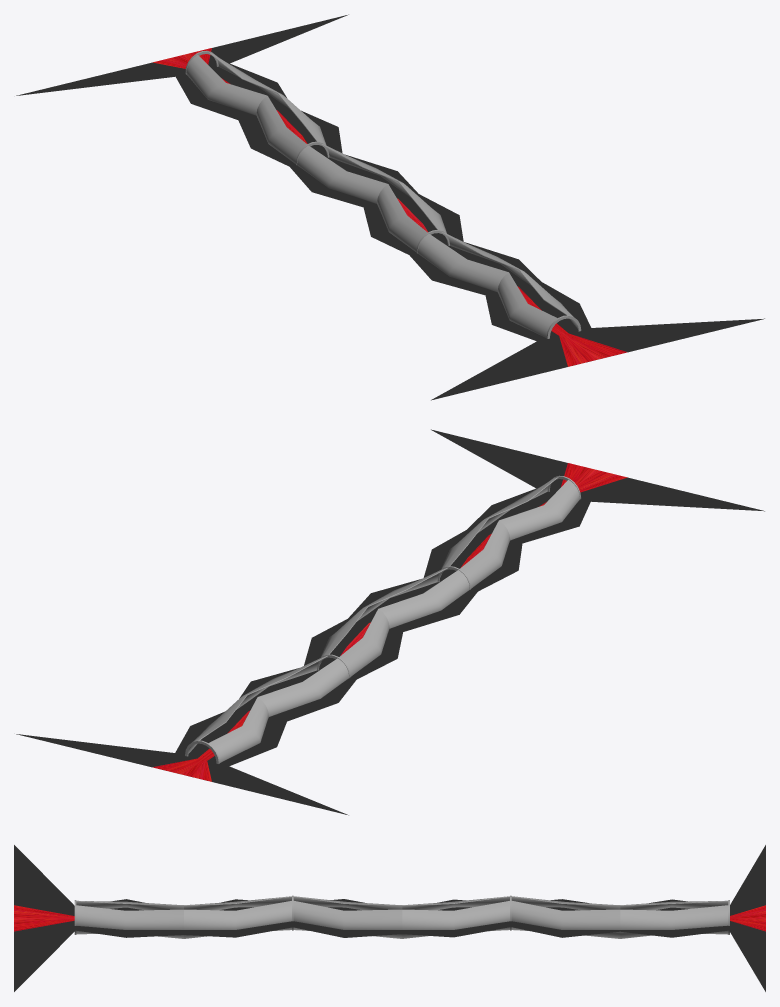
Rendered from InfiniteHallwayTesting.fbx.
3 views of the same model, one above another, from view 1: azimuth 30°, elevation 25°; view 2: azimuth 150°, elevation 25°; view 3: azimuth 270°, elevation 25° (orthographic). The views are drawn at different scales.
Parts seen in each view (by area): view 1: pPlane2, polySurface31, polySurface27, polySurface35, pPlane1, polySurface25, polySurface33, polySurface29; view 2: pPlane2, polySurface33, polySurface29, polySurface25, pPlane1, polySurface35, polySurface27, polySurface31; view 3: pPlane2, polySurface33, polySurface35, polySurface29, polySurface31, polySurface25, polySurface27, pPlane1.
Boxes of the visible parts, left/top/right/bottom form: pPlane2: left=16, top=14, right=764, bottom=400; polySurface31: left=297, top=143, right=408, bottom=203; polySurface27: left=417, top=231, right=529, bottom=292; polySurface35: left=186, top=52, right=288, bottom=115; pPlane1: left=152, top=48, right=626, bottom=366; polySurface25: left=497, top=270, right=577, bottom=337; polySurface33: left=256, top=93, right=326, bottom=163; polySurface29: left=377, top=181, right=446, bottom=251; pPlane2: left=16, top=429, right=764, bottom=815; polySurface33: left=237, top=655, right=349, bottom=716; polySurface29: left=357, top=567, right=469, bottom=628; polySurface25: left=478, top=477, right=579, bottom=540; pPlane1: left=153, top=463, right=627, bottom=781; polySurface35: left=188, top=695, right=268, bottom=762; polySurface27: left=440, top=518, right=510, bottom=588; polySurface31: left=319, top=606, right=389, bottom=676; pPlane2: left=14, top=845, right=765, bottom=991; polySurface33: left=511, top=896, right=620, bottom=938; polySurface35: left=620, top=900, right=728, bottom=938; polySurface29: left=293, top=896, right=402, bottom=938; polySurface31: left=402, top=896, right=509, bottom=938; polySurface25: left=76, top=900, right=183, bottom=938; polySurface27: left=184, top=896, right=291, bottom=938; pPlane1: left=14, top=905, right=765, bottom=931.
Size of the model in its own units: 21416 by 2153 by 45896.
3 materials, 1 textured.
